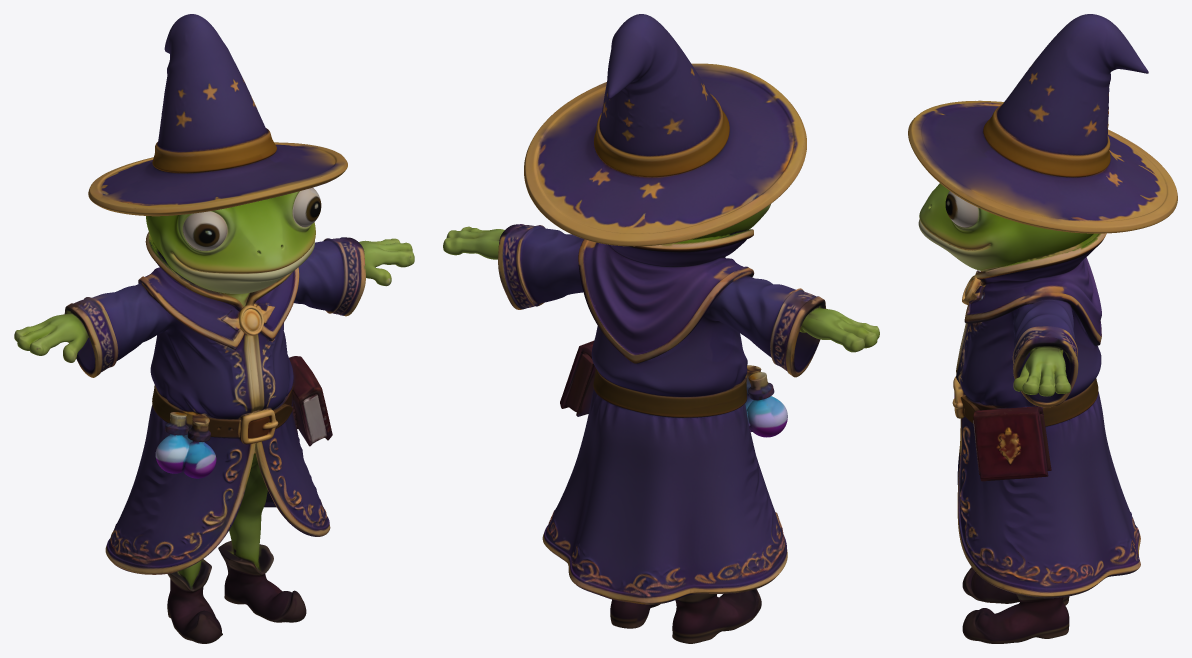
File: frog_hy3_raw.glb
The picture shows the model from 3 angles, left to right: view 1: azimuth 30°, elevation 25°; view 2: azimuth 150°, elevation 25°; view 3: azimuth 270°, elevation 25°; orthographic projection. The views are drawn at different scales.
Visible parts, largest first — view 1: material; view 2: material; view 3: material.
Boxes of the visible parts, x1,y1,x2,y2 form: material: (14,14,414,643); material: (443,14,879,643); material: (908,14,1177,643).
Size of the model in its own units: 0.8291 by 1.16 by 0.4729.
Materials: 1 (1 with a texture image).
